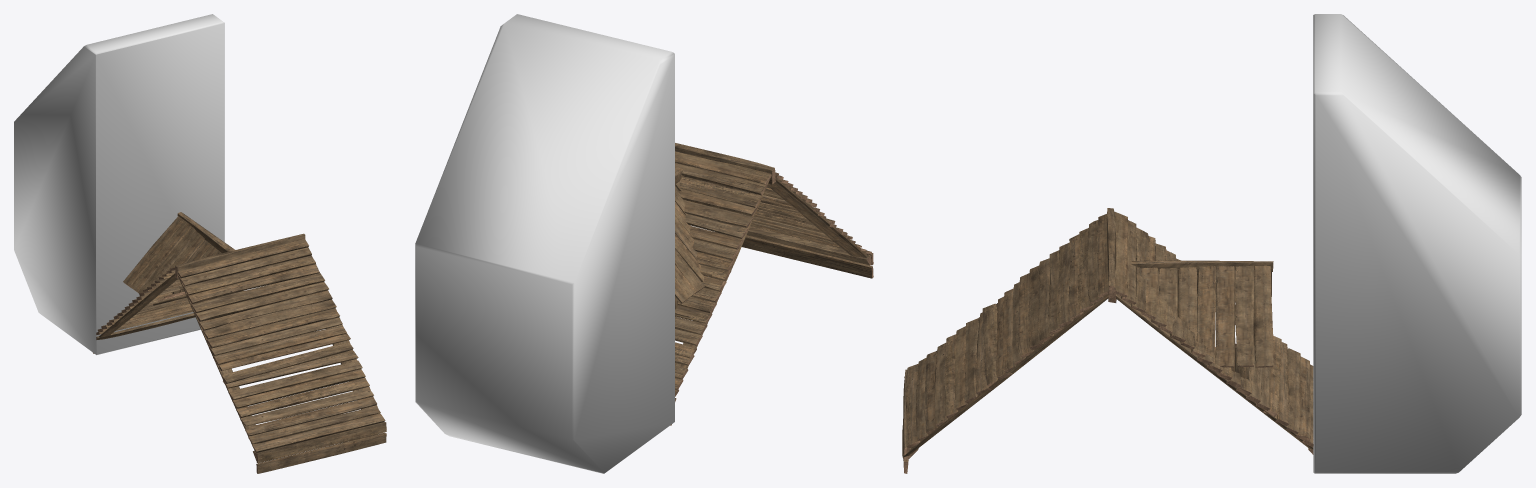
File: SM_Roof_Main_C.fbx
3 renders of one model, left to right at view 1: azimuth 30°, elevation 25°; view 2: azimuth 150°, elevation 25°; view 3: azimuth 270°, elevation 25°, orthographic. The views are drawn at different scales.
Parts seen in each view (by area): view 1: SM_Roof_Main_C_ConvexHulls, SM_Roof_Main_C; view 2: SM_Roof_Main_C_ConvexHulls, SM_Roof_Main_C; view 3: SM_Roof_Main_C_ConvexHulls, SM_Roof_Main_C.
Boxes of the visible parts, bbox=[...] form: SM_Roof_Main_C_ConvexHulls: bbox=[14, 14, 224, 355]; SM_Roof_Main_C: bbox=[93, 212, 386, 473]; SM_Roof_Main_C_ConvexHulls: bbox=[415, 14, 674, 473]; SM_Roof_Main_C: bbox=[670, 143, 873, 425]; SM_Roof_Main_C_ConvexHulls: bbox=[1313, 14, 1521, 473]; SM_Roof_Main_C: bbox=[902, 208, 1313, 473].
Size of the model in its own units: 5.54 by 12.35 by 18.12.
